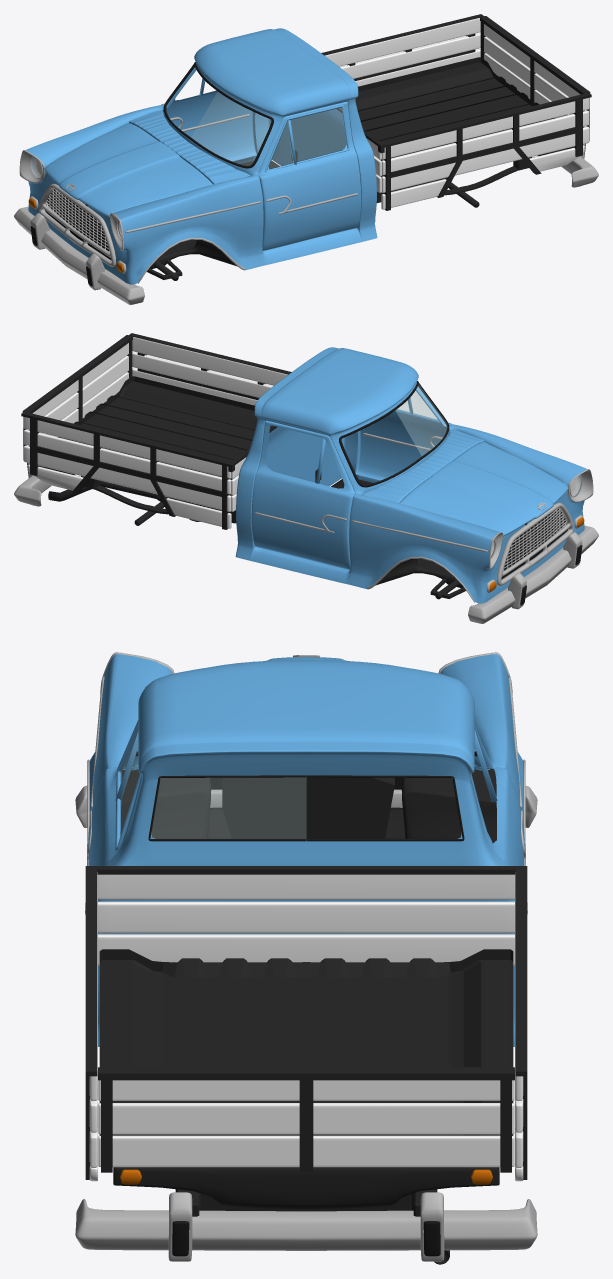
The model's file is Rastrojero02.glb.
3 renders of one model, top to bottom at view 1: azimuth 30°, elevation 25°; view 2: azimuth 150°, elevation 25°; view 3: azimuth 270°, elevation 25°, orthographic. The views are drawn at different scales.
Visible parts, largest first — view 1: Pintura.001, Chapa, Madera, Metal.002, Vidrio, Metal.001, Goma, Metal.003; view 2: Pintura.001, Chapa, Madera, Metal.002, Vidrio, Metal.001, Goma, Metal.003; view 3: Chapa, Madera, Pintura.001, Metal.002, Vidrio, Goma.
Boxes of the visible parts, x1,y1,x2,y2 form: Pintura.001: (25,28,377,284); Chapa: (45,14,591,280); Madera: (325,18,589,209); Metal.002: (14,114,598,304); Vidrio: (192,92,346,168); Metal.001: (38,183,116,266); Goma: (30,62,585,286); Metal.003: (30,213,104,290); Pintura.001: (235,347,587,603); Chapa: (21,333,567,599); Madera: (23,337,287,528); Metal.002: (14,433,598,623); Vidrio: (396,385,447,455); Metal.001: (496,502,574,585); Goma: (27,381,582,605); Metal.003: (508,532,582,609); Chapa: (85,769,527,1264); Madera: (89,872,523,1181); Pintura.001: (87,654,525,1046); Metal.002: (75,652,537,1261); Vidrio: (120,730,306,838); Goma: (135,751,477,1256).
Size of the model in its own units: 4.64 by 1.44 by 1.88.
